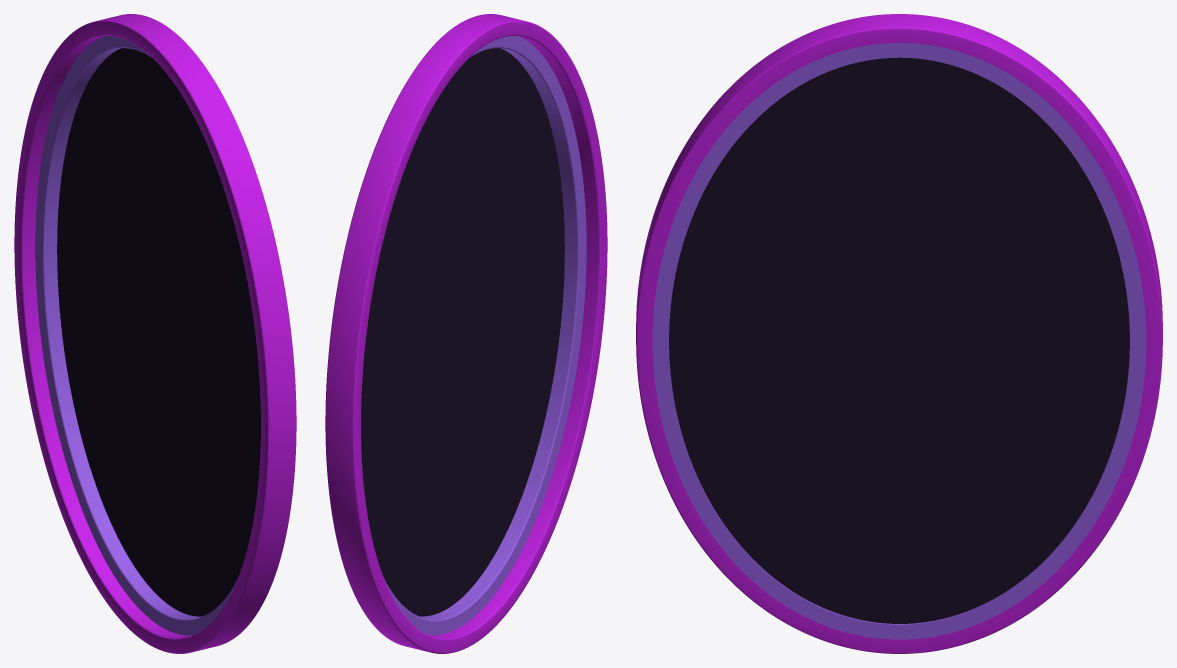
The model's file is PictureFrame.fbx.
The picture shows the model from 3 angles, left to right: view 1: azimuth 30°, elevation 25°; view 2: azimuth 150°, elevation 25°; view 3: azimuth 270°, elevation 25°; orthographic projection. The views are drawn at different scales.
Visible parts, largest first — view 1: Picture, Frame_01, Frame_02; view 2: Picture, Frame_01, Frame_02; view 3: Picture, Frame_01, Frame_02.
Part boxes in pixels (x1,y1,x2,y2): Picture: (57, 48, 260, 616); Frame_01: (14, 14, 296, 653); Frame_02: (35, 36, 238, 635); Picture: (361, 48, 564, 616); Frame_01: (325, 14, 607, 653); Frame_02: (383, 36, 586, 635); Picture: (669, 57, 1129, 623); Frame_01: (636, 14, 1162, 653); Frame_02: (652, 43, 1146, 639).
Size of the model in its own units: 0.1044 by 2.1 by 1.6.
